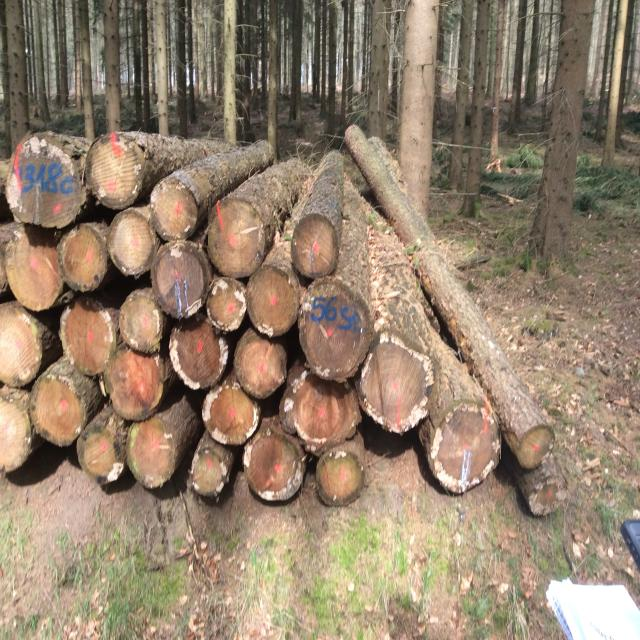wood-log: (299, 274, 374, 382), (5, 134, 88, 229), (356, 333, 434, 433), (280, 370, 361, 455), (430, 402, 501, 494), (6, 224, 64, 311), (59, 296, 116, 377), (151, 241, 209, 320), (208, 199, 265, 278), (169, 315, 229, 390), (244, 428, 306, 500), (104, 346, 164, 420), (85, 132, 142, 209), (30, 375, 86, 447), (246, 264, 300, 336), (202, 382, 260, 445), (234, 330, 286, 398), (0, 301, 41, 387), (128, 417, 175, 489), (58, 226, 108, 291), (108, 209, 155, 276), (78, 420, 125, 485), (151, 176, 198, 241), (291, 214, 338, 279), (119, 290, 162, 353), (316, 450, 364, 505), (0, 395, 32, 472), (206, 276, 246, 331), (191, 450, 229, 497), (516, 423, 554, 469), (528, 475, 566, 515)
